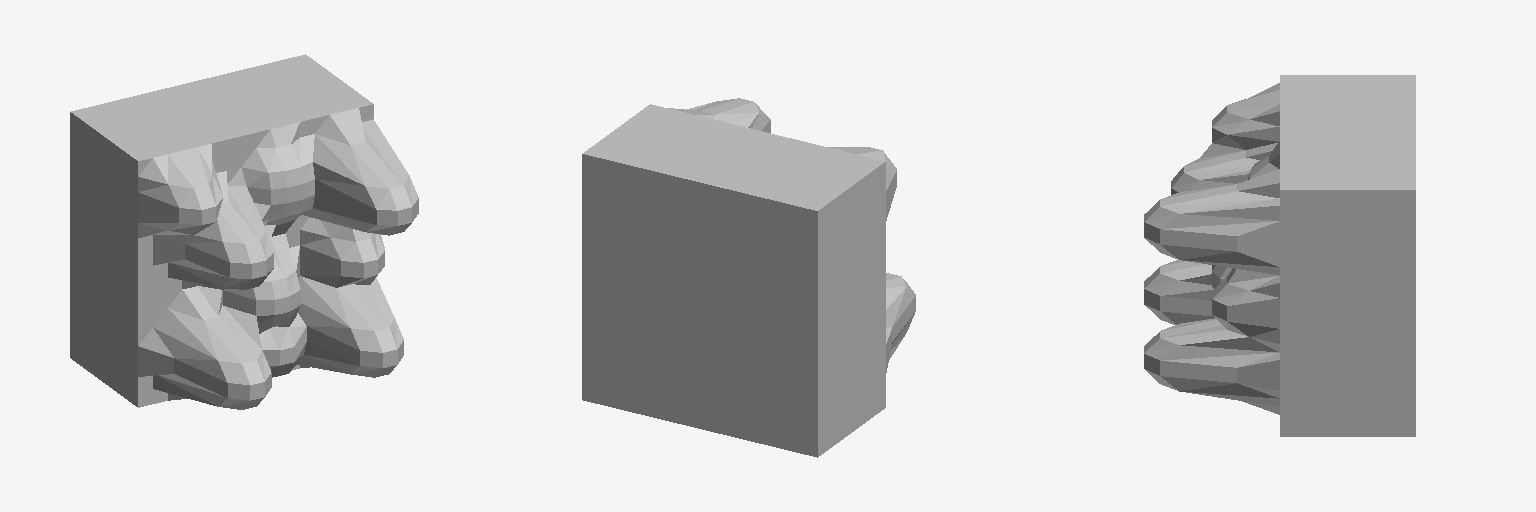
File: rock1.obj
3 renders of one model, left to right at view 1: azimuth 30°, elevation 25°; view 2: azimuth 150°, elevation 25°; view 3: azimuth 270°, elevation 25°, orthographic.
Visible parts, largest first — view 1: Cube; view 2: Cube; view 3: Cube.
Boxes of the visible parts, <box> form: Cube: <box>70,54,418,409</box>; Cube: <box>582,98,915,457</box>; Cube: <box>1144,75,1415,436</box>.
Bounding box in the file's own units: 2 × 2 × 2.